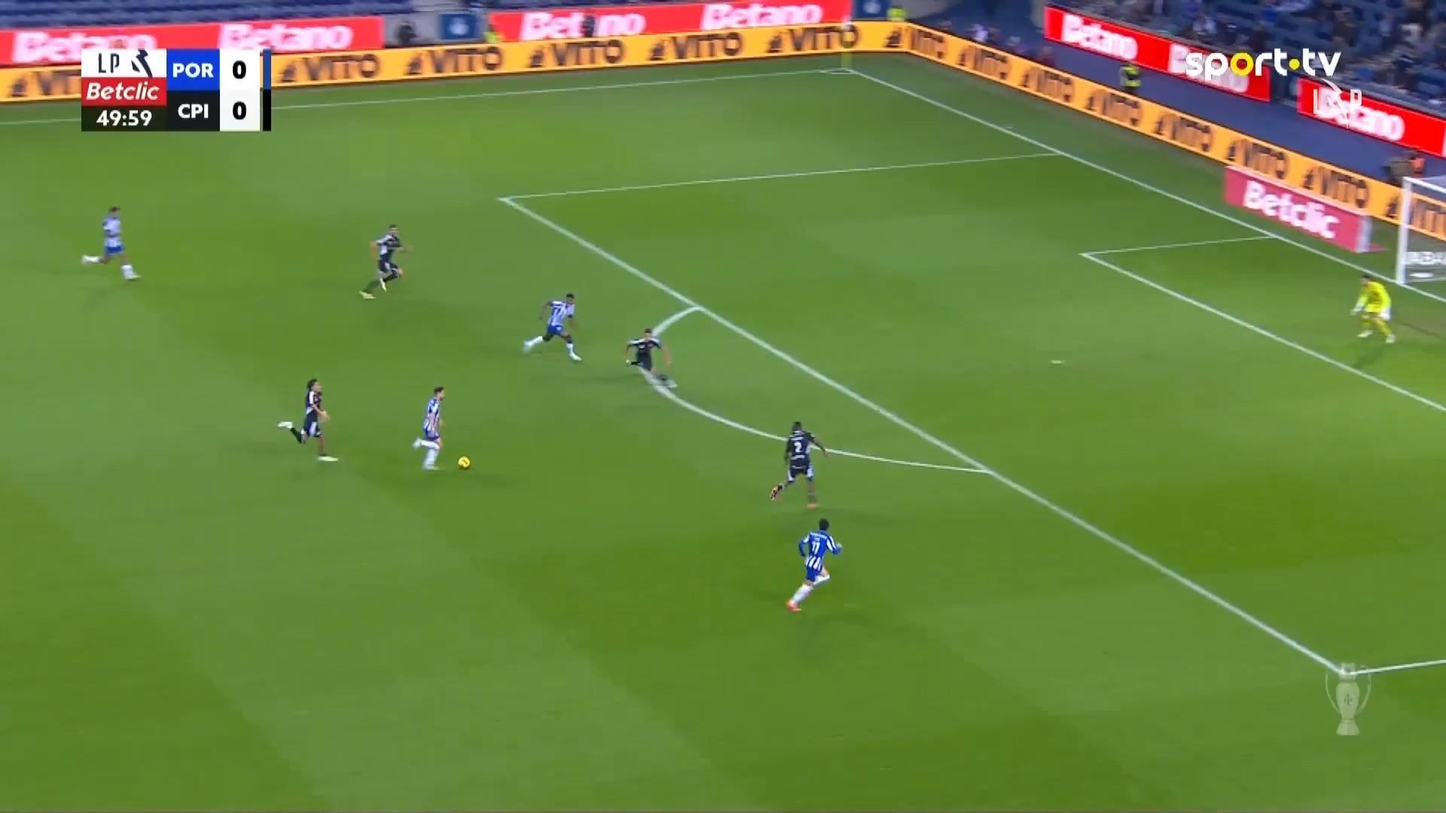ball: (457, 455, 470, 469)
goalkeeper: (1350, 272, 1396, 343)
player: (785, 517, 843, 612), (768, 420, 828, 509), (279, 377, 339, 461), (80, 205, 140, 281), (520, 291, 582, 362), (358, 223, 412, 300), (624, 326, 678, 389), (411, 385, 446, 470)
